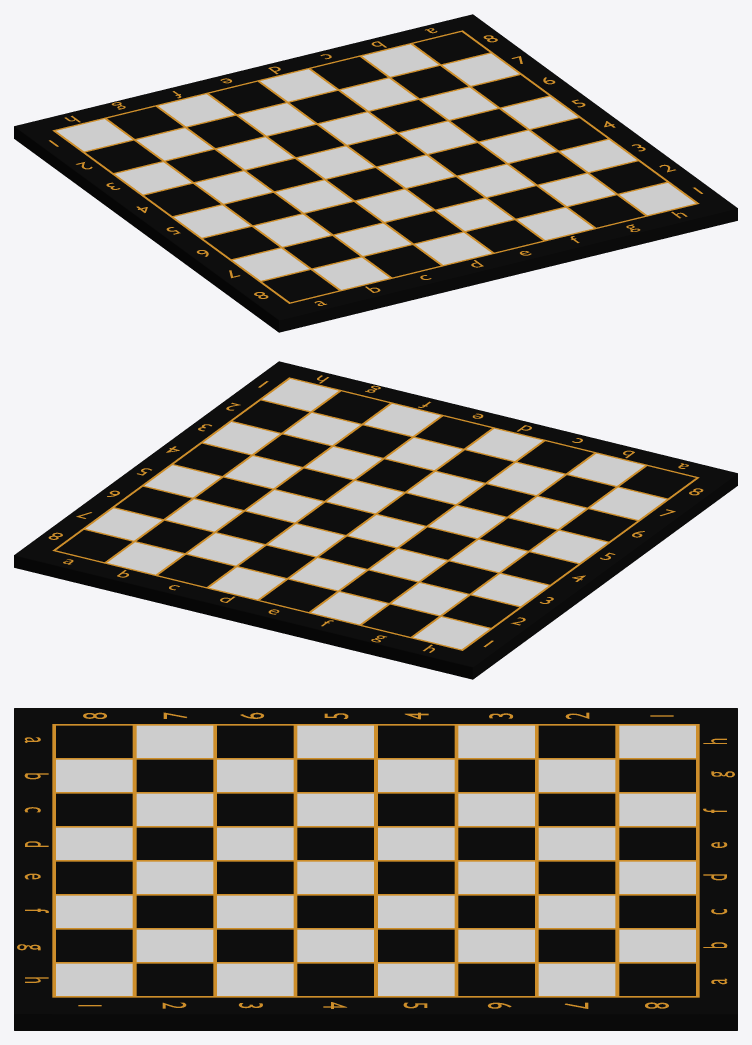
The model's file is ChessBoard.glb.
3 renders of one model, top to bottom at view 1: azimuth 30°, elevation 25°; view 2: azimuth 150°, elevation 25°; view 3: azimuth 270°, elevation 25°, orthographic. The views are drawn at different scales.
Parts seen in each view (by area): view 1: Board; view 2: Board; view 3: Board.
Boxes of the visible parts, <box> form: Board: <box>14,14,737,332</box>; Board: <box>14,361,737,679</box>; Board: <box>14,708,737,1030</box>.
Bounding box in the file's own units: 18.9 × 0.501 × 18.9.
